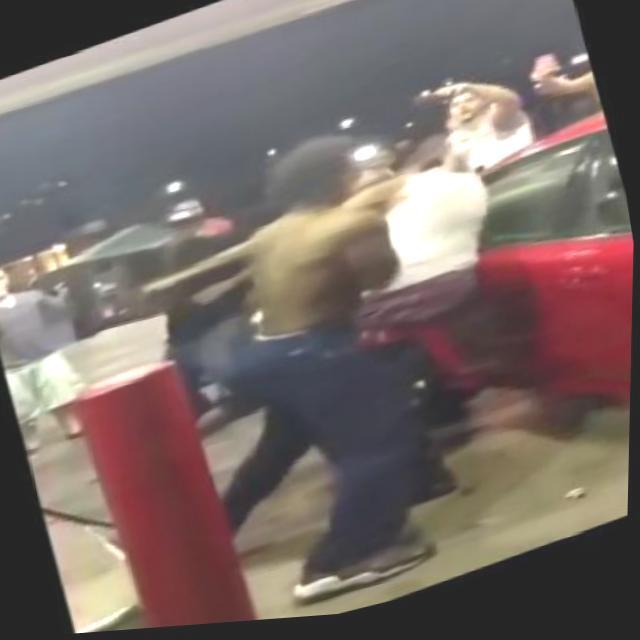fight: (123, 84, 569, 576)
